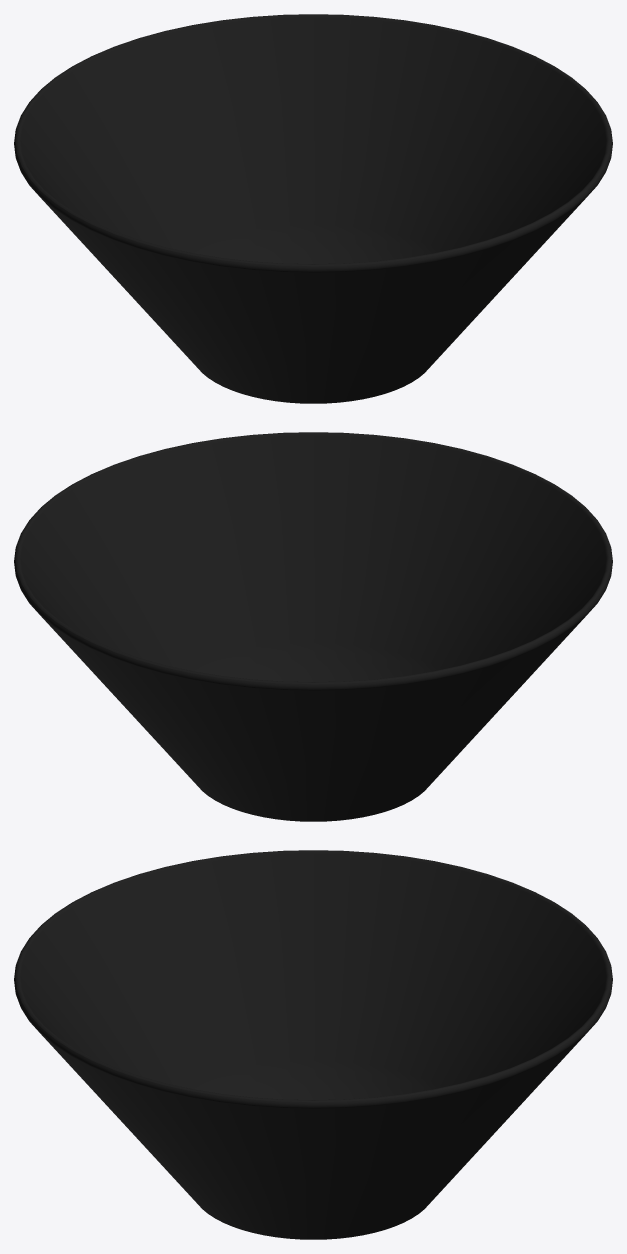
Rendered from Sink_005.gltf.
The picture shows the model from 3 angles, top to bottom: view 1: azimuth 30°, elevation 25°; view 2: azimuth 150°, elevation 25°; view 3: azimuth 270°, elevation 25°; orthographic projection.
Parts seen in each view (by area): view 1: Sink_005; view 2: Sink_005; view 3: Sink_005.
Part boxes in pixels (x1,y1,x2,y2): Sink_005: [14, 14, 612, 403]; Sink_005: [14, 432, 612, 821]; Sink_005: [14, 850, 612, 1239].
Bounding box in the file's own units: 0.4121 × 0.162 × 0.4121.
1 material, 1 textured.
